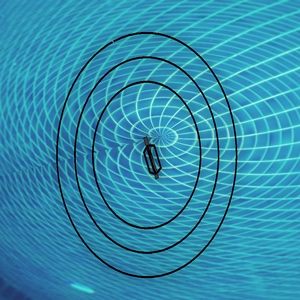submarine: (141, 140, 167, 184)
